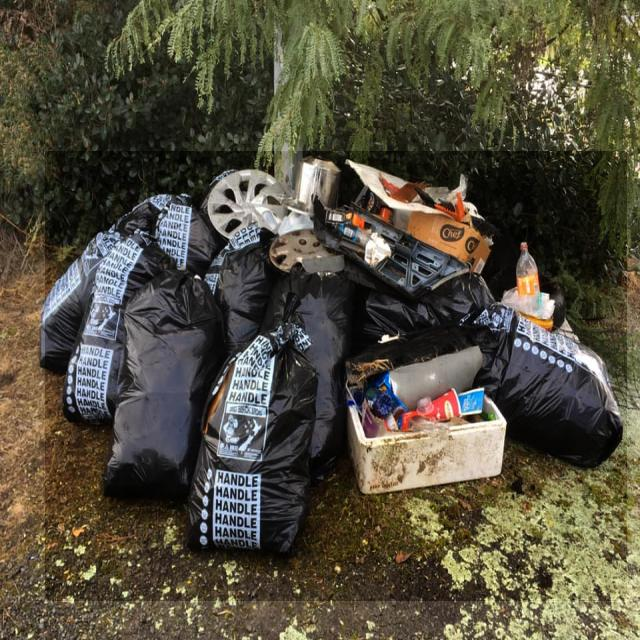dumping: (45, 152, 627, 602)
